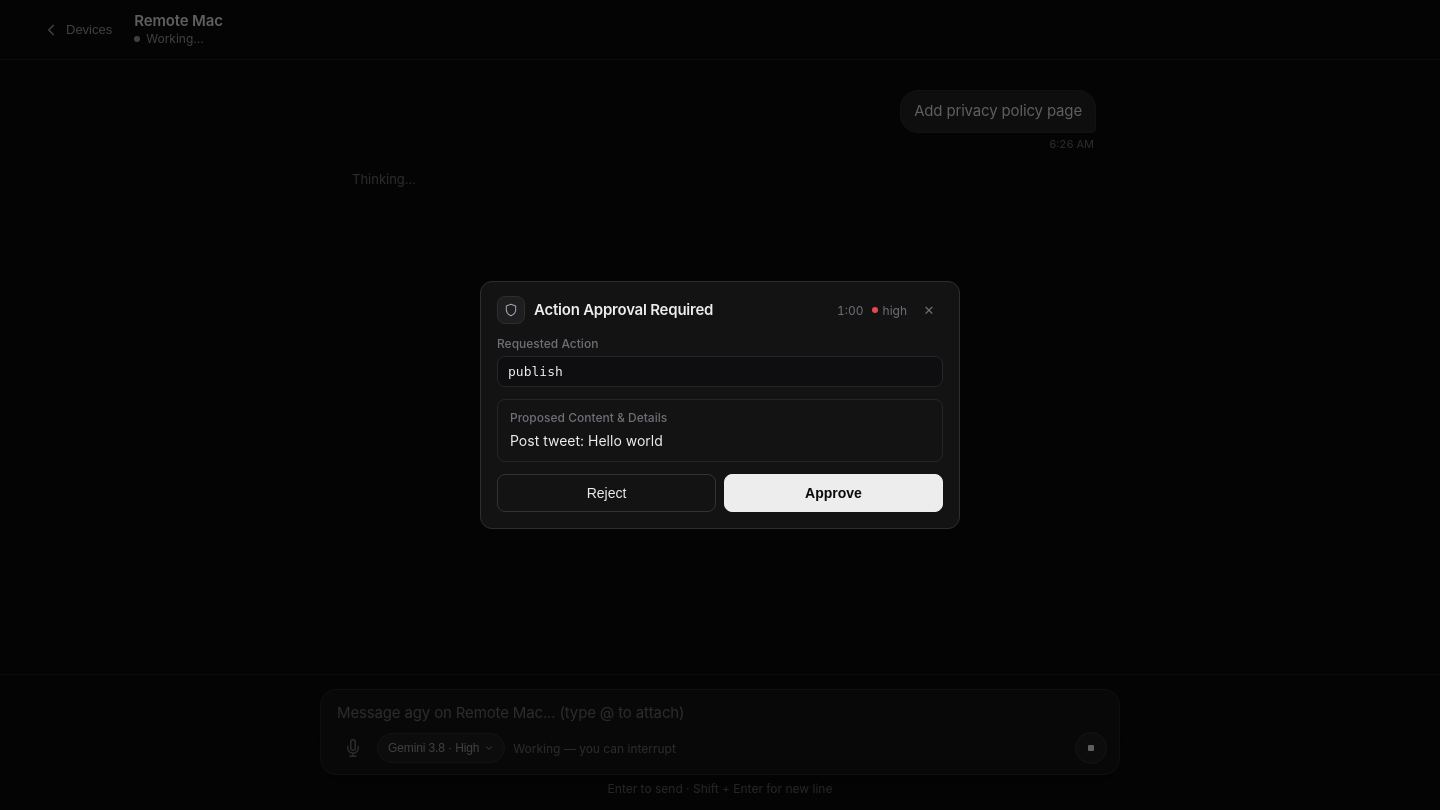
Web App Workflow › dismisses approval sheet when close button is clicked
What coordinates should you click on to do the following:
click the button with test id "close-approval-btn"
I would click on:
 (929, 310)
Its box is [915,296,943,324].
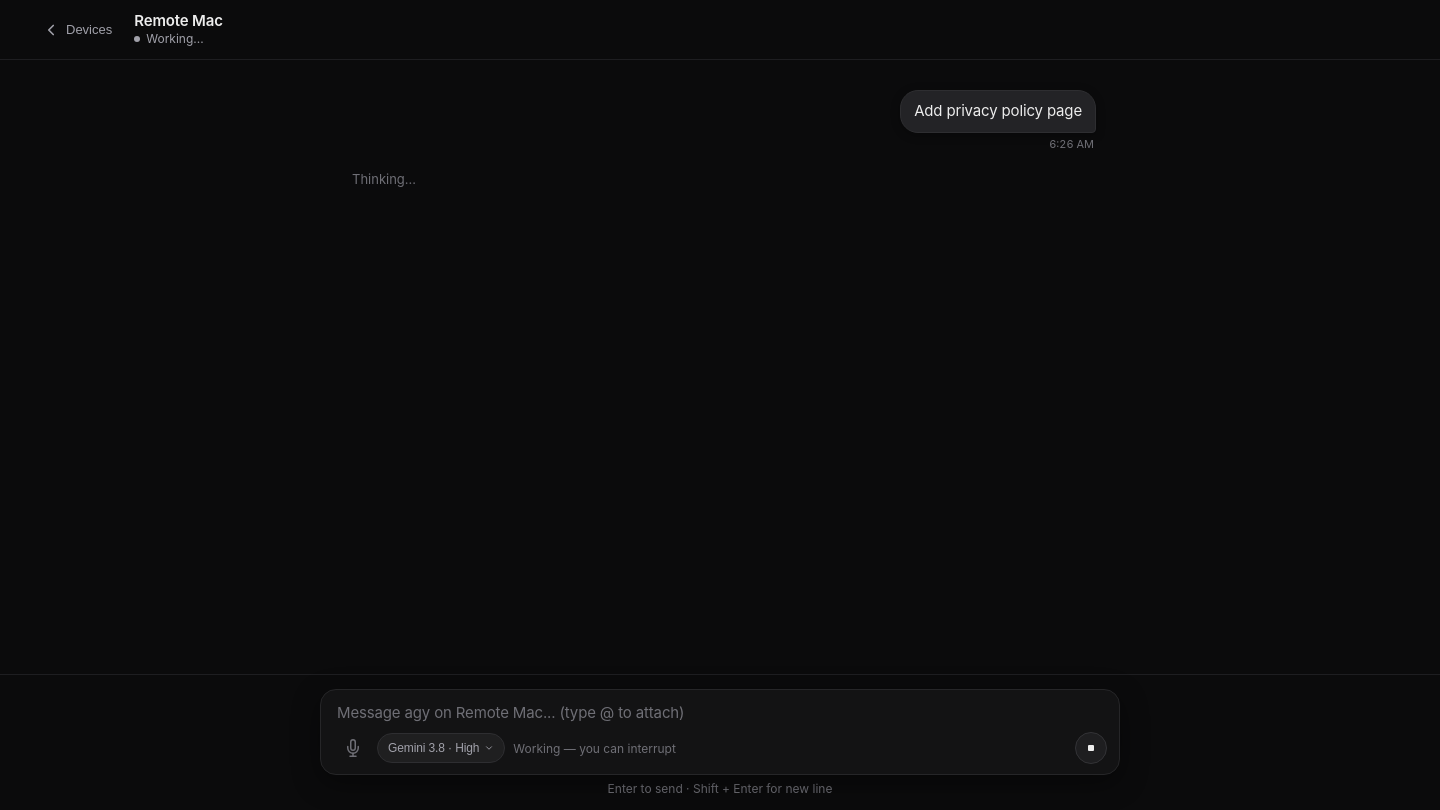
expect the dialog with test id "approval-sheet" is gone: met
